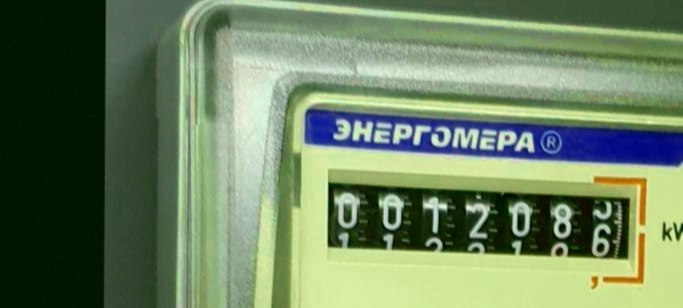0: (378, 189, 406, 232), (335, 187, 359, 229), (509, 198, 532, 237)
1: (423, 193, 445, 234)
2: (466, 200, 491, 239)
6: (588, 221, 612, 257)
8: (551, 200, 573, 240)
screen: (318, 155, 657, 296)
